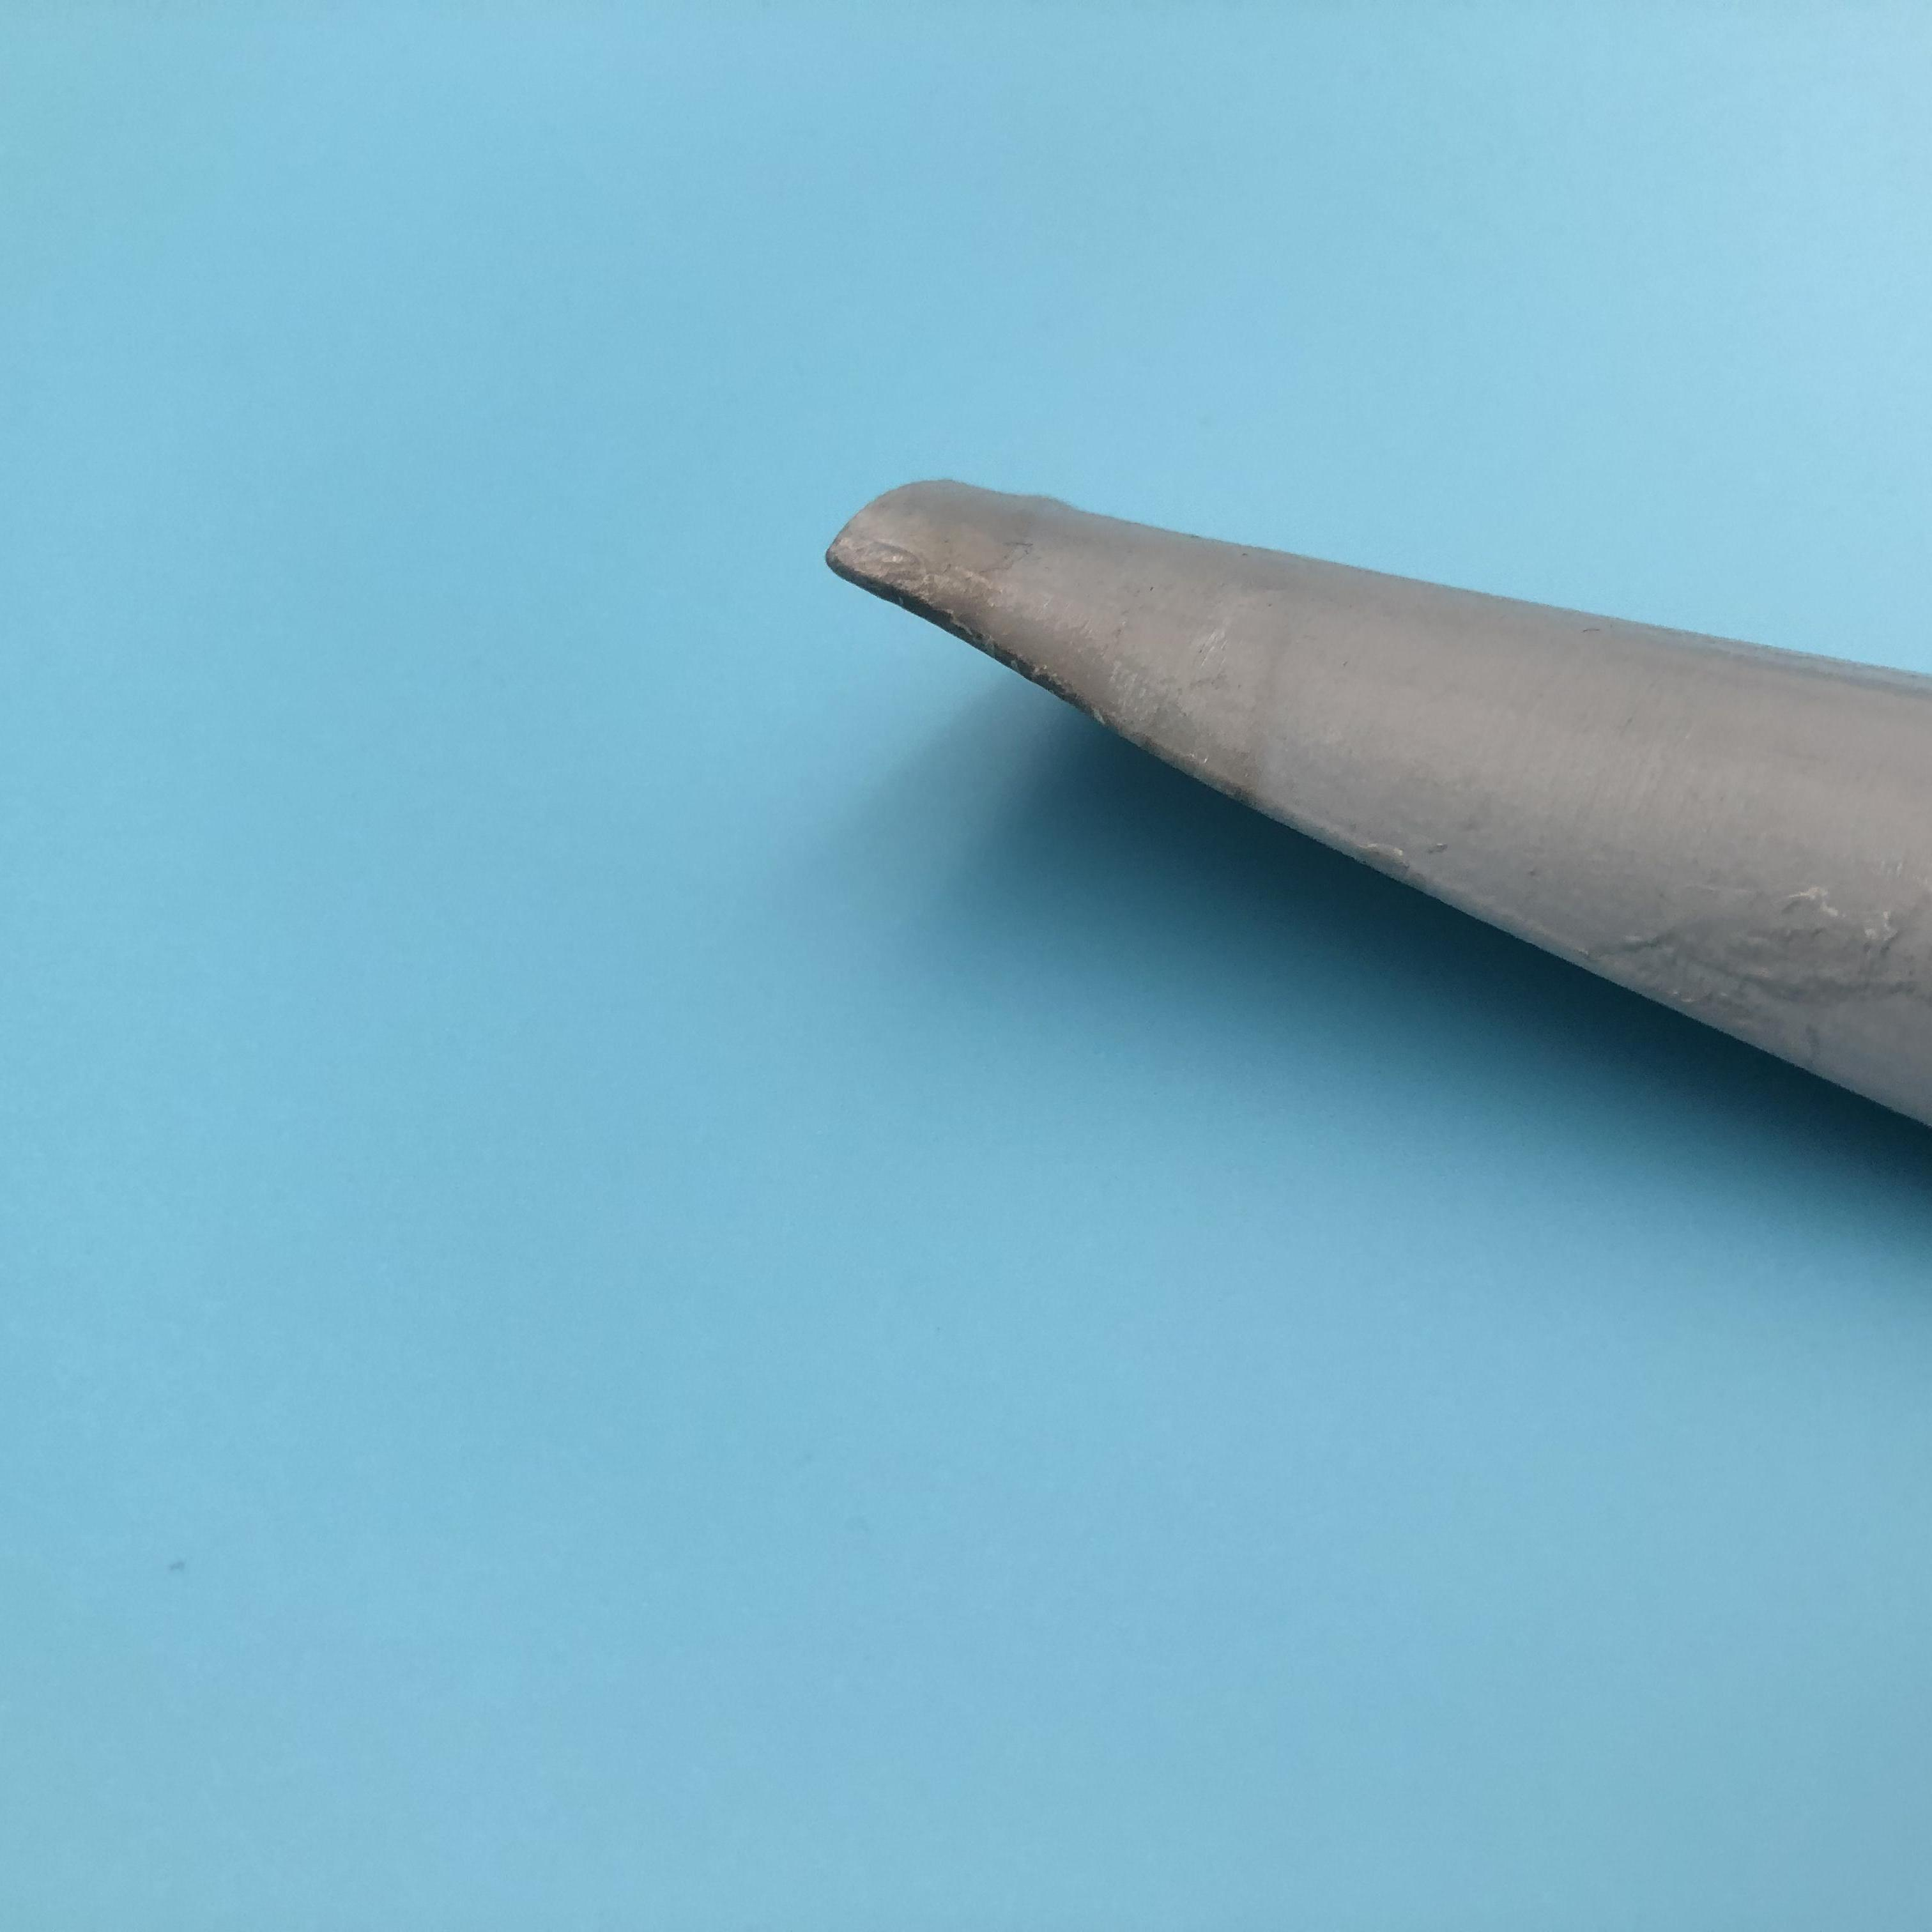ablation: (879, 487, 1161, 701)
